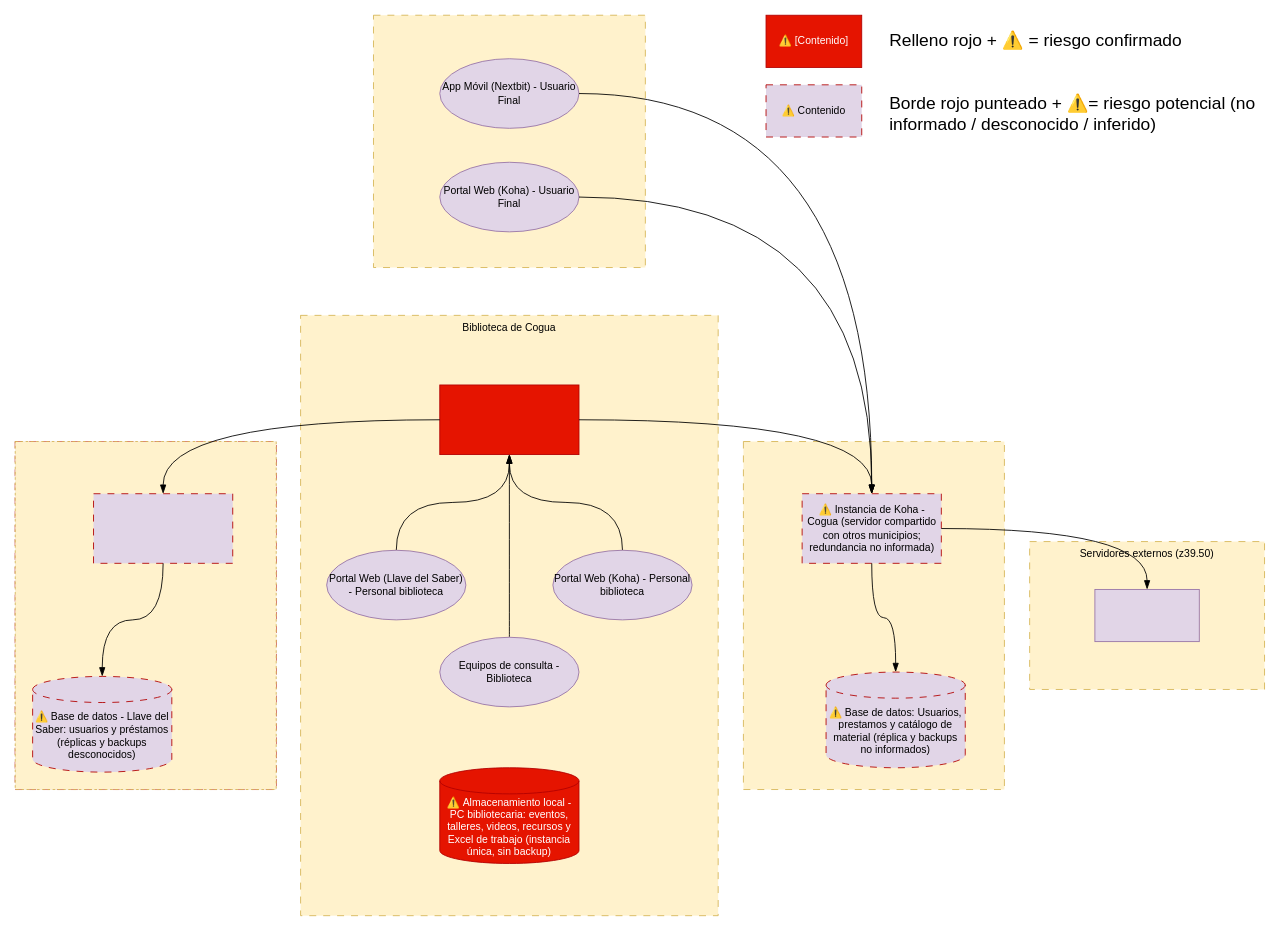
Image size: 1280x931. Some labels were removed from this diagram. Each missing label, with the box of its shape:
Centro de datos Biteca – Bogotá: (743, 441, 1004, 790)
Clientes externos: (373, 14, 645, 268)
Plataforma nacional - Llave del Saber (MinCultura / RNBP): (14, 441, 276, 790)
Servidores externos: z39.50: (1094, 589, 1199, 642)
⚠️ Aplicación web - Llave del Saber (redundancia desconocida): (93, 493, 233, 563)
⚠️ Conexión a internet - Biblioteca de Cogua (instancia única, sin respaldo): (439, 384, 579, 455)
